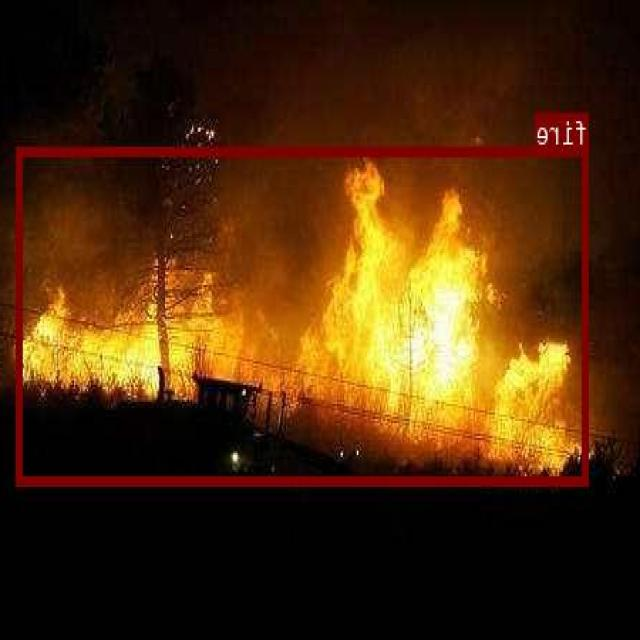fire: (18, 146, 589, 484)
